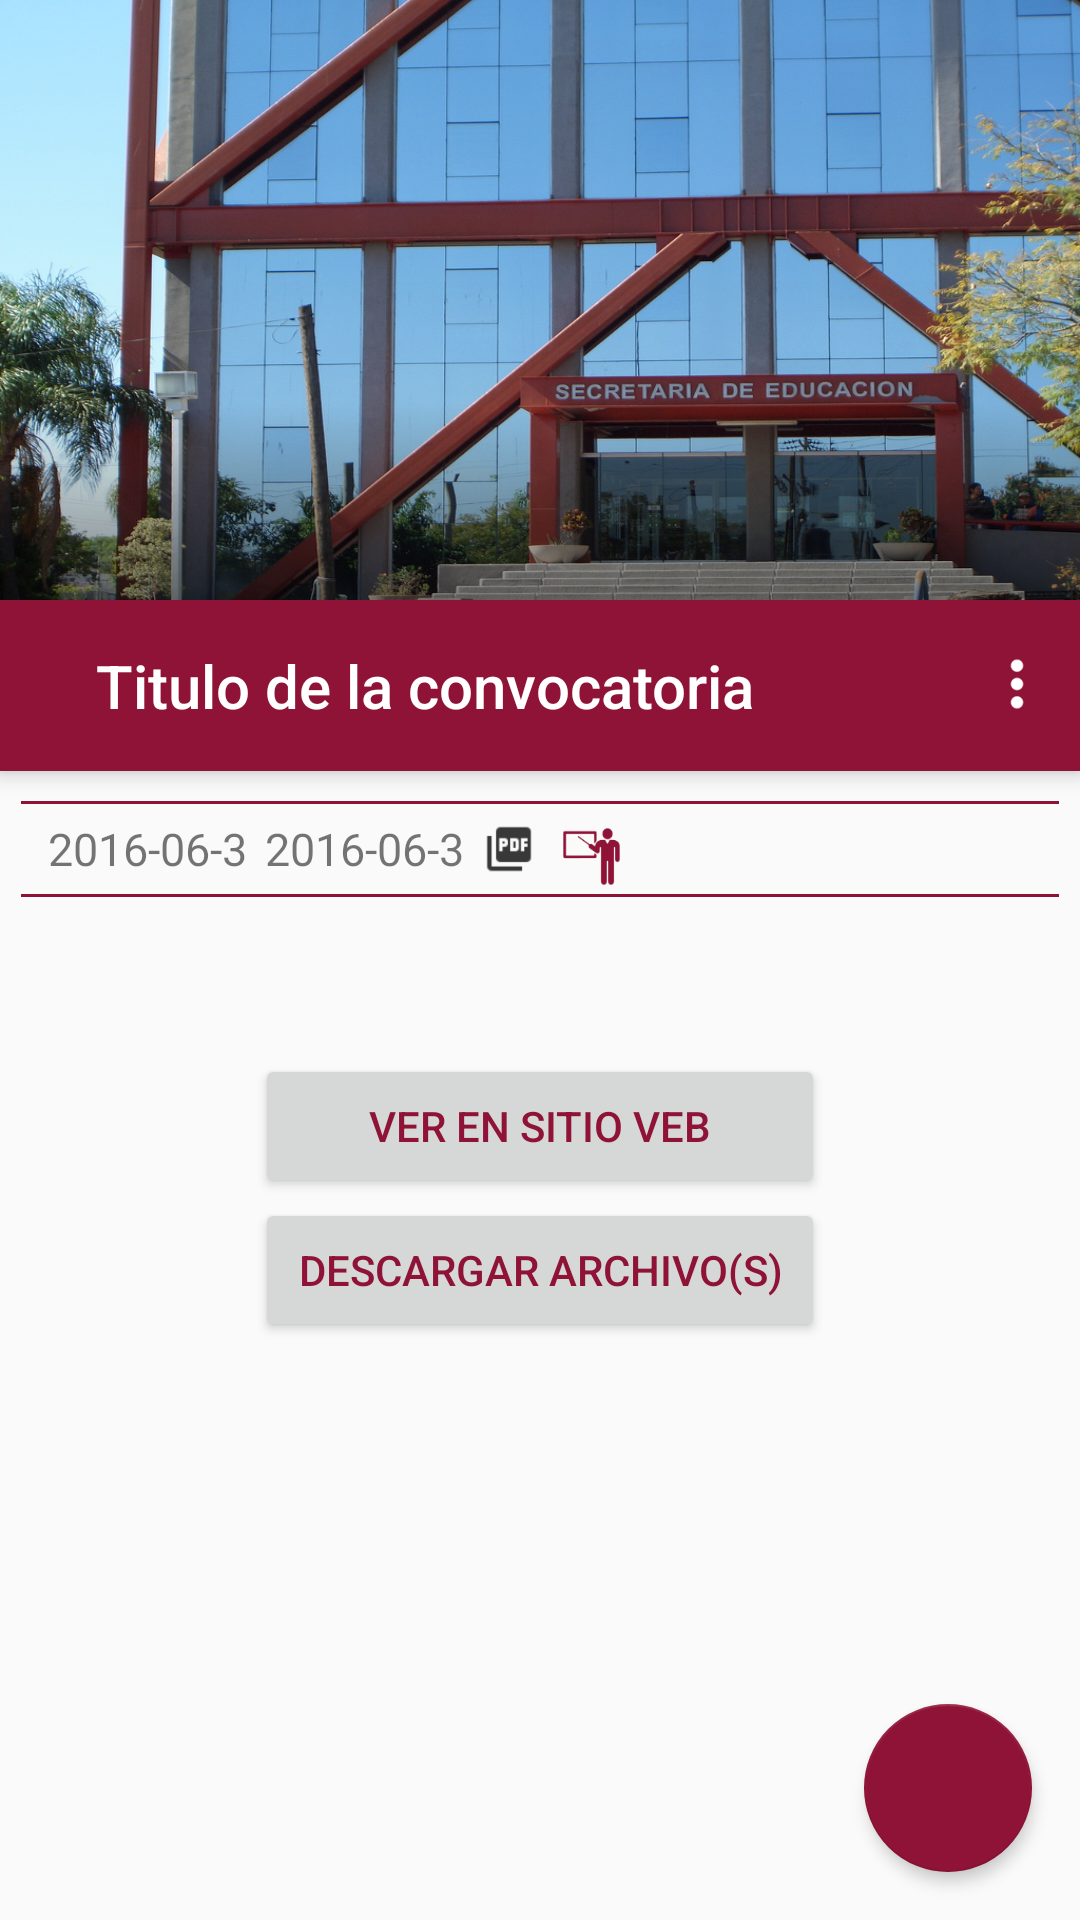

Screen size 1080*1920. Icon name, then its center in pixels as (x=x, y=y):
maestros: (x=591, y=856)
picture as pdf: (x=509, y=849)
